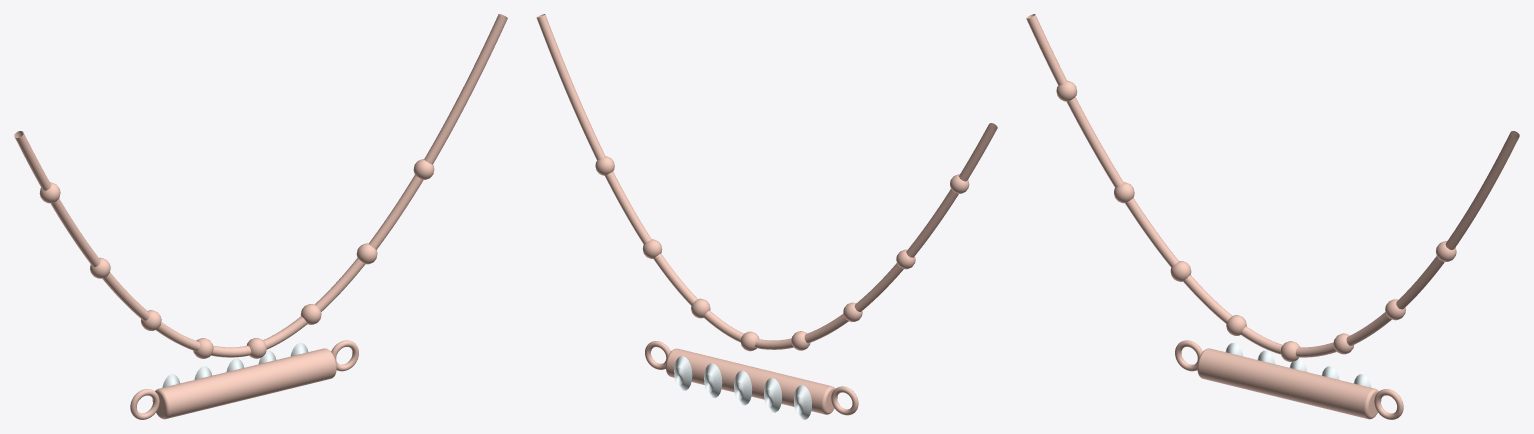
File: bar-necklace.v3.safe.glb
3 views of the same model, side by side, from view 1: azimuth 30°, elevation 25°; view 2: azimuth 150°, elevation 25°; view 3: azimuth 330°, elevation 25° (orthographic). The views are drawn at different scales.
Visible parts, largest first — view 1: bar_continuous_chain, bar_nameplate, bar_left_bail; view 2: bar_continuous_chain, bar_nameplate, bar_baguette_4, bar_baguette_3, bar_baguette_0, bar_baguette_2, bar_baguette_1, bar_left_bail; view 3: bar_continuous_chain, bar_nameplate, bar_right_bail.
Part boxes in pixels (left/top/right/bottom): bar_continuous_chain: left=14, top=14, right=507, bottom=357; bar_nameplate: left=152, top=348, right=336, bottom=419; bar_left_bail: left=130, top=389, right=159, bottom=419; bar_continuous_chain: left=536, top=14, right=997, bottom=349; bar_nameplate: left=665, top=348, right=837, bottom=414; bar_baguette_4: left=674, top=356, right=692, bottom=390; bar_baguette_3: left=704, top=363, right=722, bottom=397; bar_baguette_0: left=794, top=385, right=811, bottom=419; bar_baguette_2: left=734, top=370, right=752, bottom=405; bar_baguette_1: left=764, top=378, right=781, bottom=412; bar_left_bail: left=831, top=386, right=858, bottom=415; bar_continuous_chain: left=1026, top=14, right=1519, bottom=357; bar_nameplate: left=1197, top=348, right=1381, bottom=419; bar_right_bail: left=1374, top=389, right=1403, bottom=419.
Size of the model in its own units: 1.38 by 0.9154 by 0.1576.
